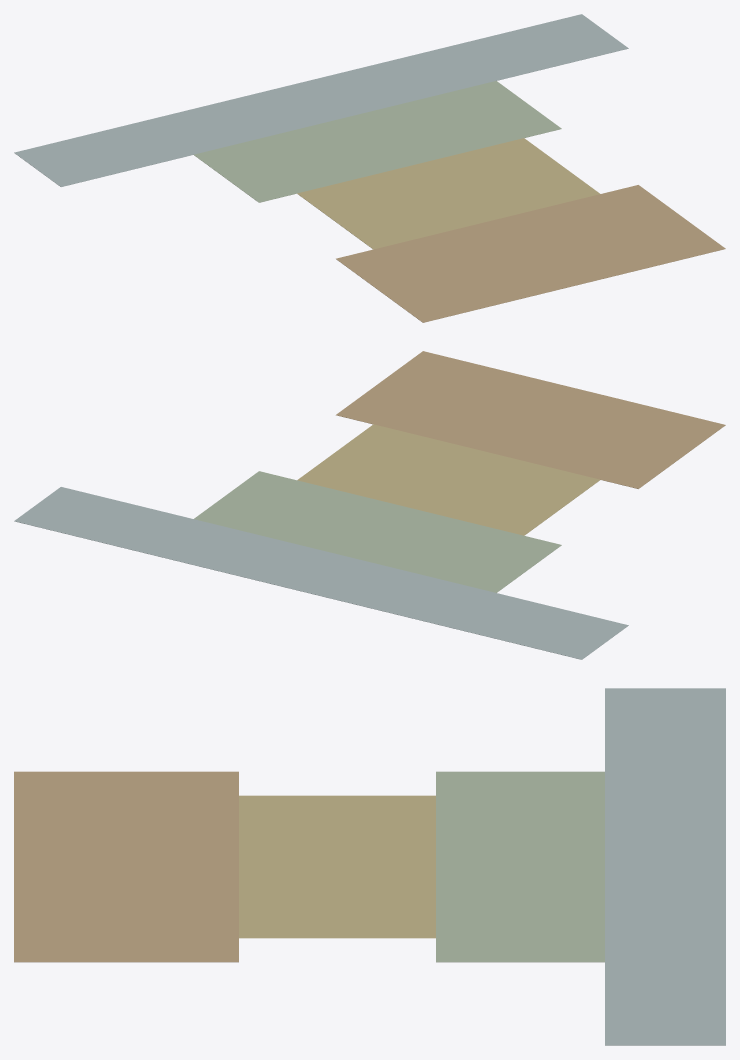
File: optional-functional-overlay-local.glb
3 views of the same model, one above another, from view 1: azimuth 30°, elevation 25°; view 2: azimuth 150°, elevation 25°; view 3: azimuth 270°, elevation 25° (orthographic). The views are drawn at different scales.
Visible parts, largest first — view 1: diagram_入仓分流, diagram_接收, diagram_暂存, diagram_计验; view 2: diagram_入仓分流, diagram_接收, diagram_暂存, diagram_计验; view 3: diagram_入仓分流, diagram_接收, diagram_暂存, diagram_计验.
Boxes of the visible parts, left/top/right/bottom form: diagram_入仓分流: left=14, top=14, right=628, bottom=186; diagram_接收: left=336, top=185, right=725, bottom=322; diagram_暂存: left=194, top=81, right=561, bottom=202; diagram_计验: left=297, top=138, right=599, bottom=249; diagram_入仓分流: left=14, top=487, right=628, bottom=659; diagram_接收: left=336, top=351, right=725, bottom=488; diagram_暂存: left=194, top=471, right=561, bottom=592; diagram_计验: left=297, top=424, right=600, bottom=535; diagram_入仓分流: left=605, top=688, right=725, bottom=1045; diagram_接收: left=14, top=771, right=238, bottom=962; diagram_暂存: left=436, top=771, right=604, bottom=962; diagram_计验: left=239, top=795, right=435, bottom=938.
Bounding box in the file's own units: 30 × 0.01 × 25.3.
